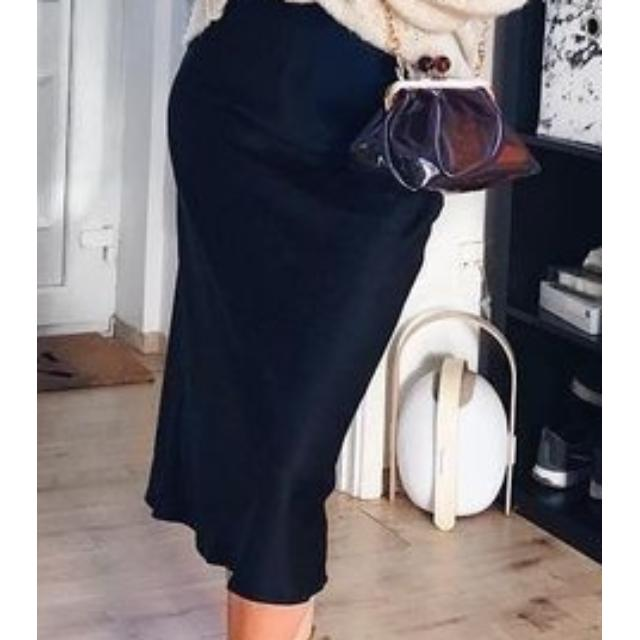silk: (147, 1, 407, 602)
